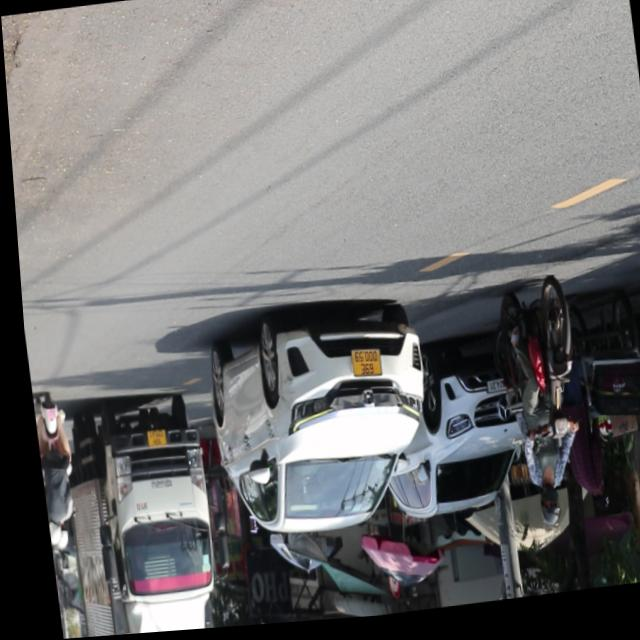helmet: (530, 491, 554, 535)
licenseplate: (482, 283, 589, 541)
